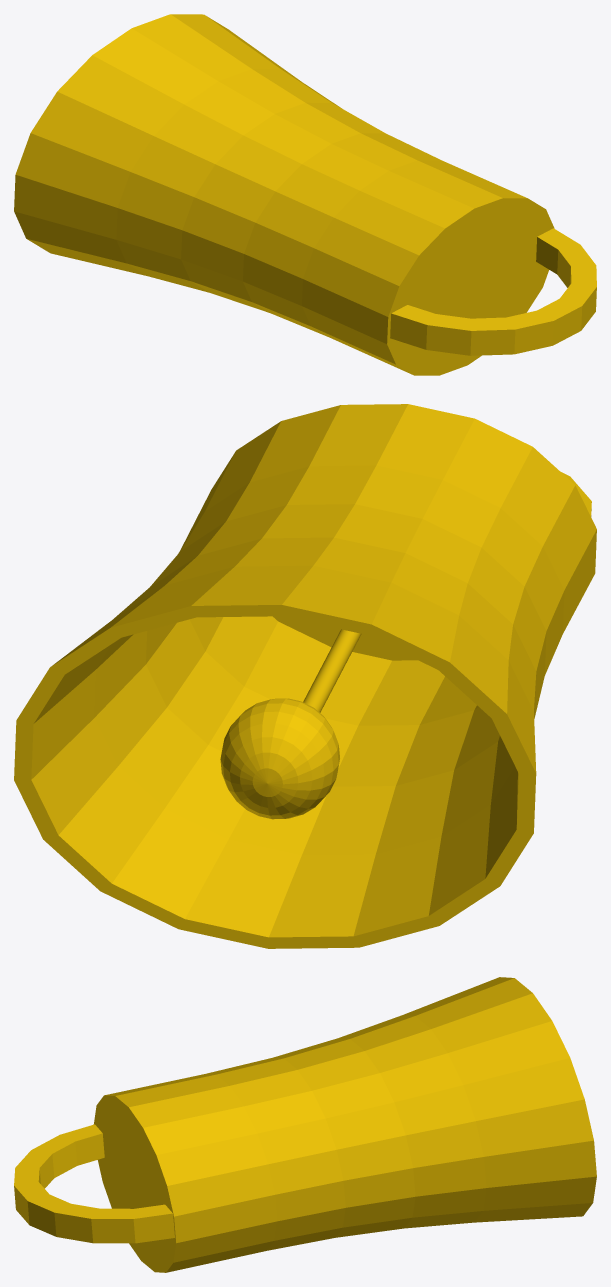
Rendered from fV2smrXzOeP.glb.
3 views of the same model, one above another, from view 1: azimuth 30°, elevation 25°; view 2: azimuth 150°, elevation 25°; view 3: azimuth 270°, elevation 25° (orthographic). The views are drawn at different scales.
Visible parts, largest first — view 1: Cylinder001; view 2: Cylinder001; view 3: Cylinder001.
Part boxes in pixels (box(x1,y1,x2,y2)): Cylinder001: box(14, 14, 596, 375); Cylinder001: box(14, 404, 596, 948); Cylinder001: box(14, 977, 596, 1272).
Size of the model in its own units: 1.82 by 1 by 2.55.
